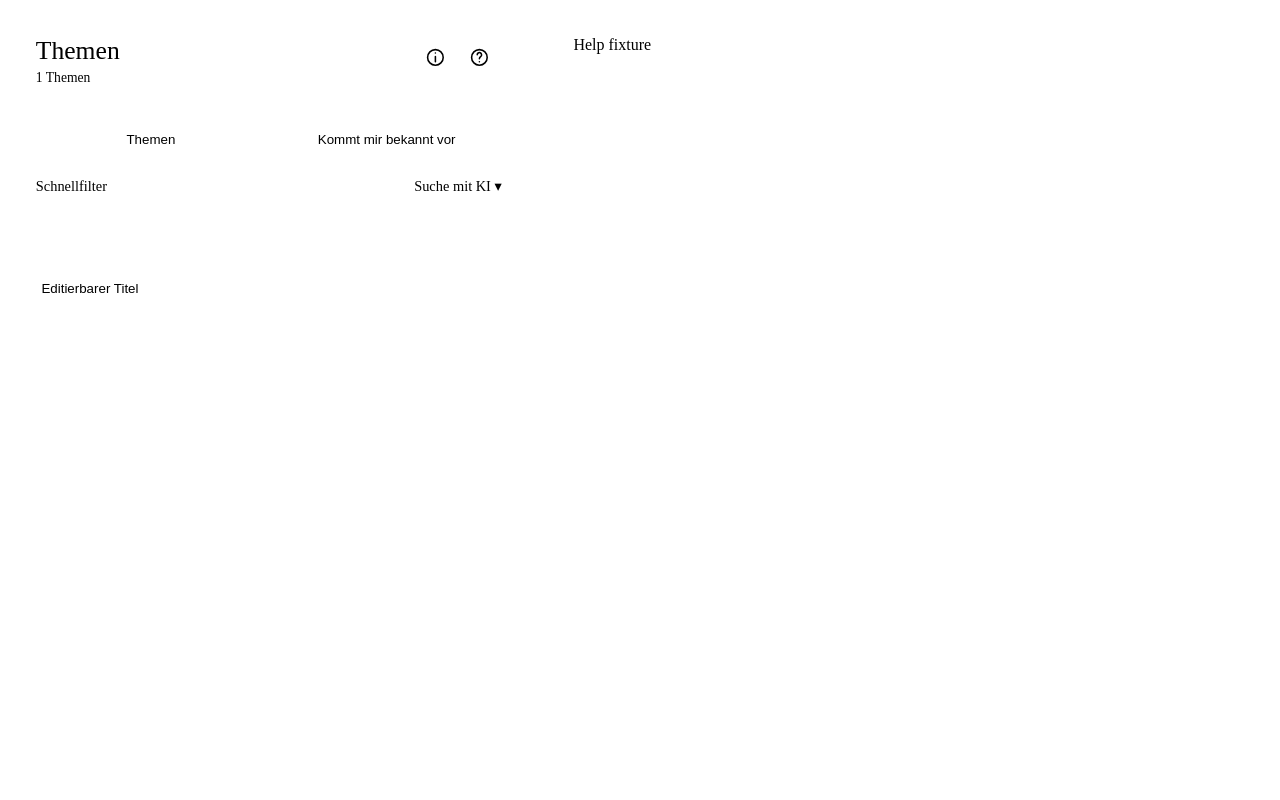
TopicBrowser › shows editorial status watching in German
The image size is (1280, 800).
Click the button "Editierbarer Titel" at (90, 289), box top-left (36, 261), bottom-right (502, 317)
(page scrolled)
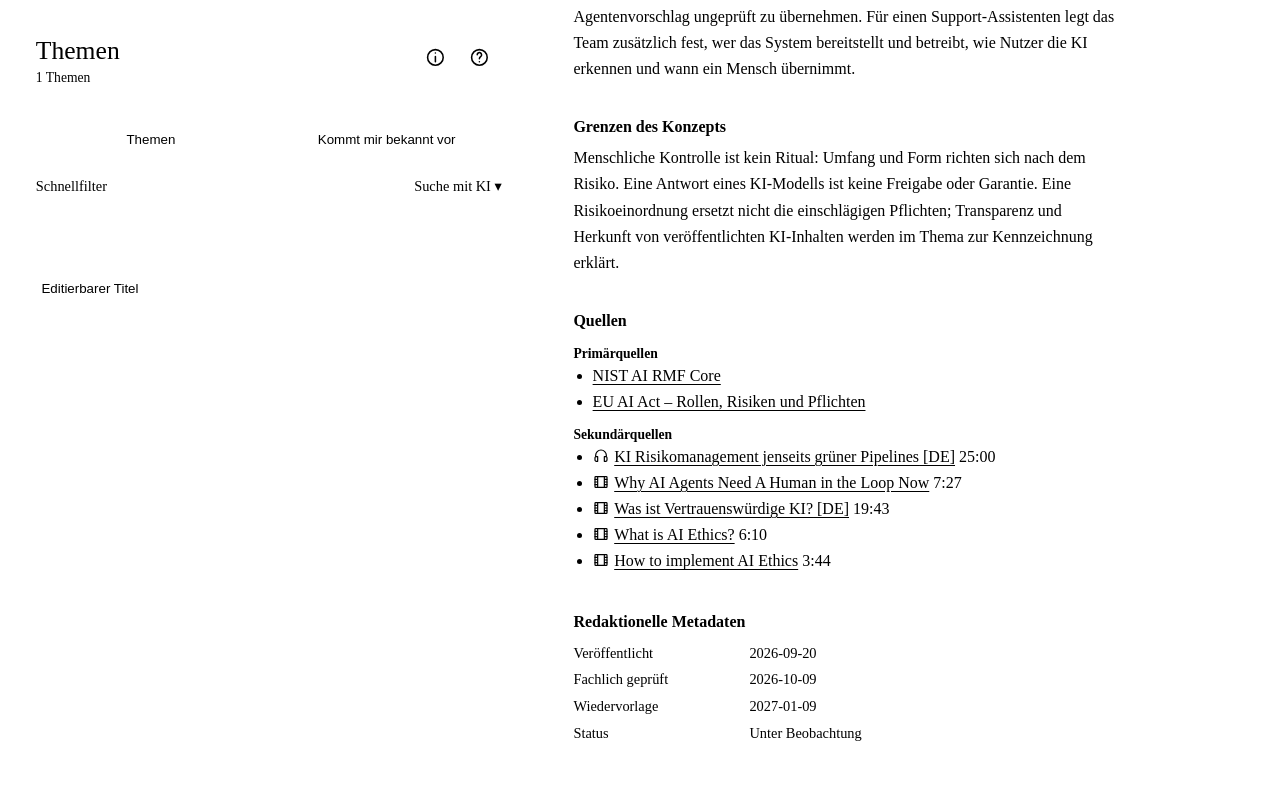
Expected: the text "Unter Beobachtung" is shown, top-left (749, 725), bottom-right (862, 742)
